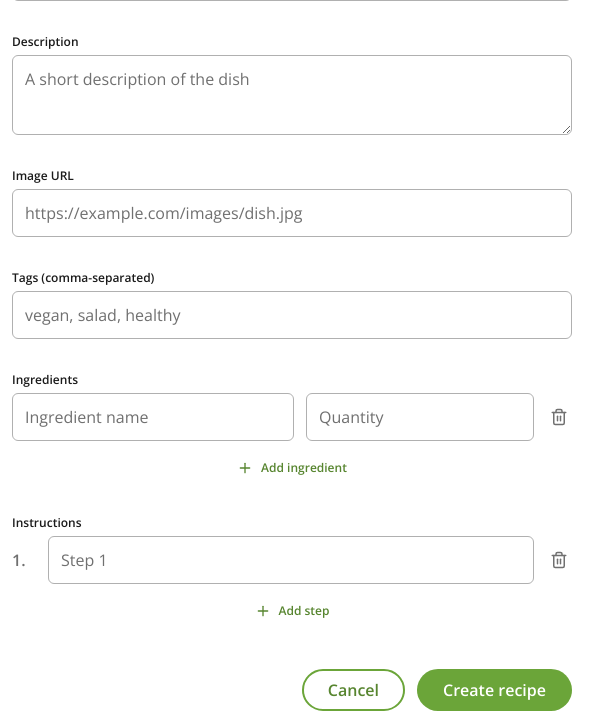
Test case: RecipeForm › shows validation errors and does not submit when required fields are missing
(page scrolled)
Click the button "Create recipe": (494, 690) [417, 669, 572, 710]
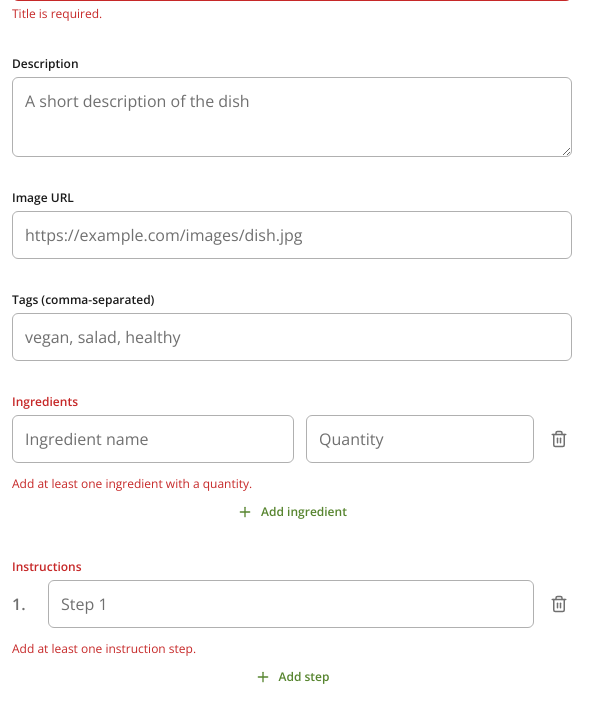
expect the text "Title is required." is shown: met, box [12, 5, 102, 22]
expect the text "Add at least one ingredient with a quantity." is shown: met, box [12, 475, 252, 492]
expect the text "Add at least one instruction step." is shown: met, box [12, 640, 196, 657]
